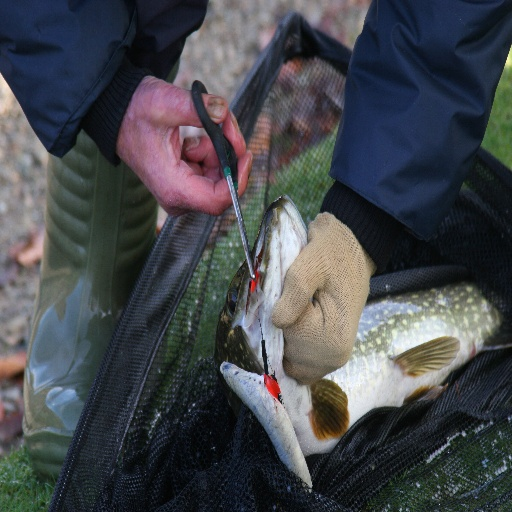hand: (128, 77, 246, 239), (272, 210, 378, 385)
